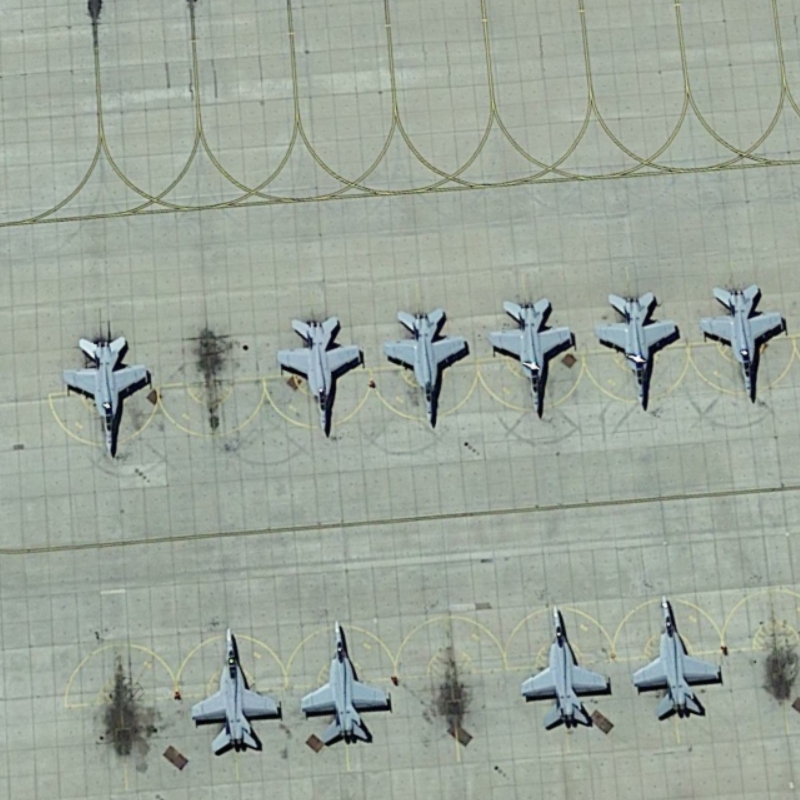A16: (185, 623, 286, 762), (627, 589, 728, 724), (294, 617, 395, 752), (518, 597, 615, 737), (57, 332, 155, 465), (271, 311, 369, 441), (484, 294, 579, 424), (379, 303, 473, 433), (697, 280, 789, 405), (593, 288, 681, 417)
